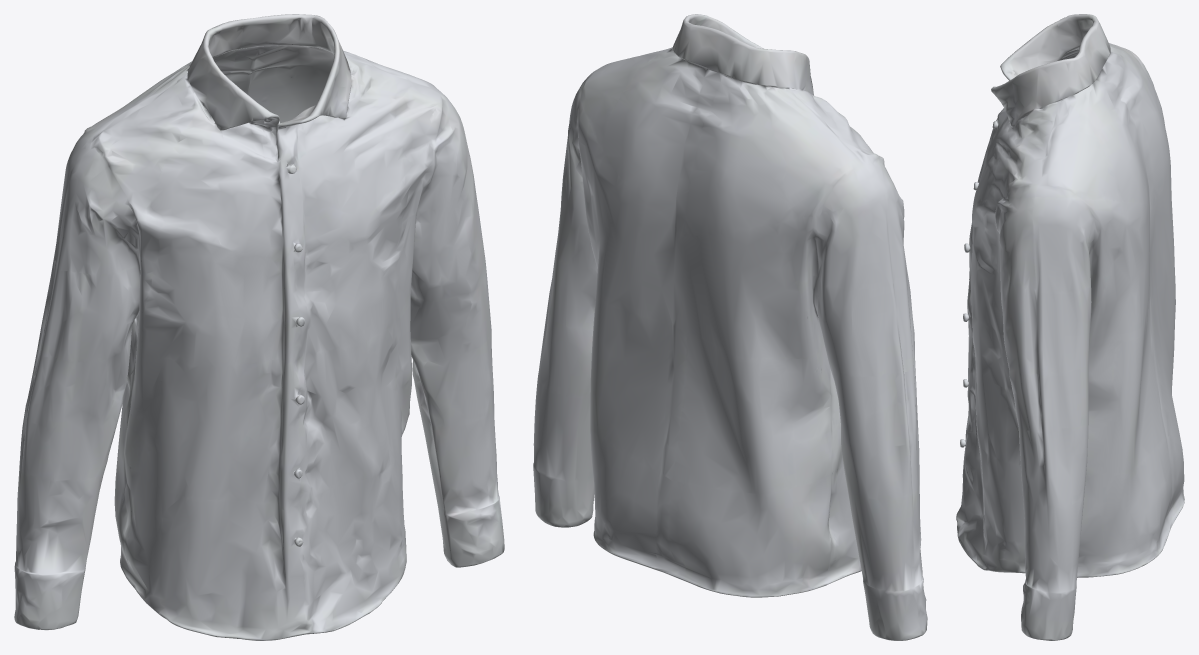
3 renders of one model, left to right at view 1: azimuth 30°, elevation 25°; view 2: azimuth 150°, elevation 25°; view 3: azimuth 270°, elevation 25°, orthographic. The views are drawn at different scales.
Parts seen in each view (by area): view 1: tripo_node_60def23e-31b0-419a-b1d2-239a452a5e02; view 2: tripo_node_60def23e-31b0-419a-b1d2-239a452a5e02; view 3: tripo_node_60def23e-31b0-419a-b1d2-239a452a5e02.
Boxes of the visible parts, x1,y1,x2,y2 form: tripo_node_60def23e-31b0-419a-b1d2-239a452a5e02: [14, 14, 504, 640]; tripo_node_60def23e-31b0-419a-b1d2-239a452a5e02: [533, 14, 927, 640]; tripo_node_60def23e-31b0-419a-b1d2-239a452a5e02: [956, 14, 1184, 640].
Size of the model in its own units: 0.8132 by 0.9998 by 0.4002.
1 material, 1 textured.
